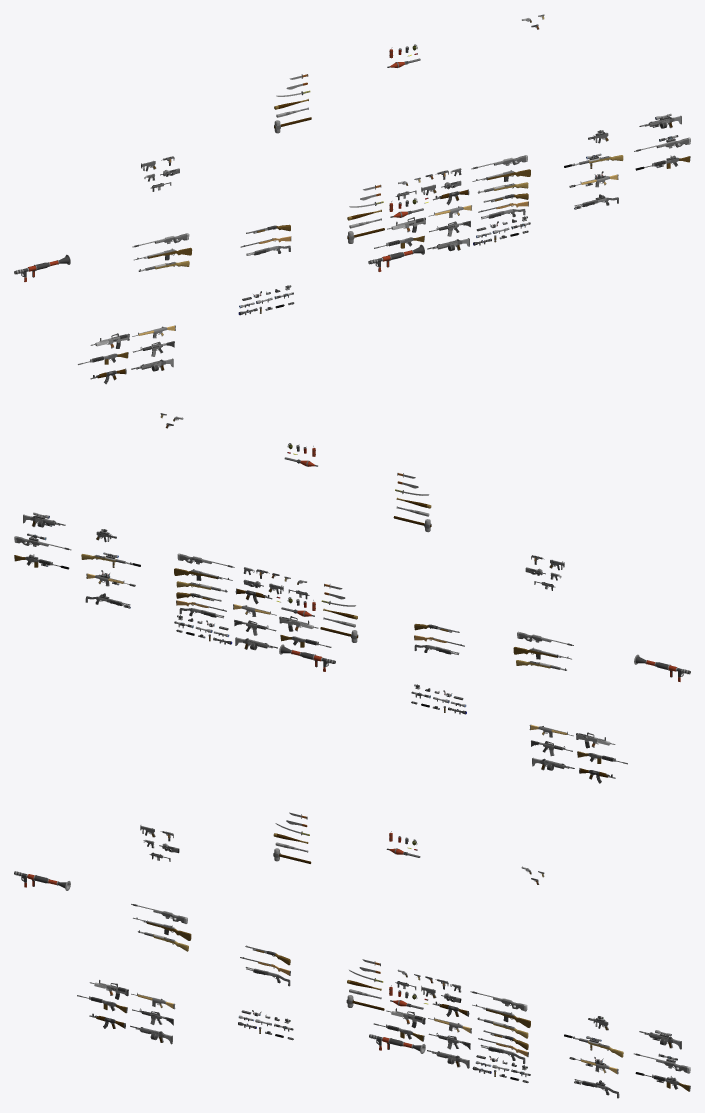
Rendered from polygonal_modern_weapons_collection_1.glb.
The picture shows the model from 3 angles, top to bottom: view 1: azimuth 30°, elevation 25°; view 2: azimuth 150°, elevation 25°; view 3: azimuth 330°, elevation 25°; orthographic projection.
Parts seen in each view (by area): view 1: combined_assets_1; view 2: combined_assets_1; view 3: combined_assets_1.
Part boxes in pixels (x1,y1,x2,y2): combined_assets_1: [14, 14, 690, 384]; combined_assets_1: [14, 413, 690, 783]; combined_assets_1: [14, 812, 690, 1098].
Size of the model in its own units: 5175 by 1961 by 69.99.
1 material, 1 textured.
